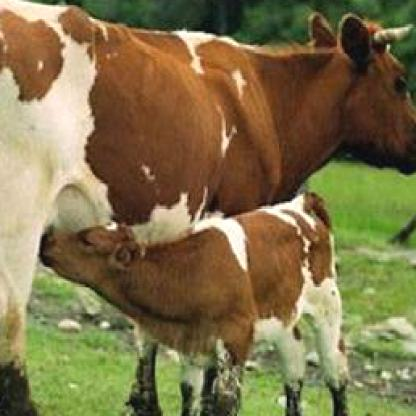cow: (1, 12, 416, 415), (34, 189, 356, 414)
